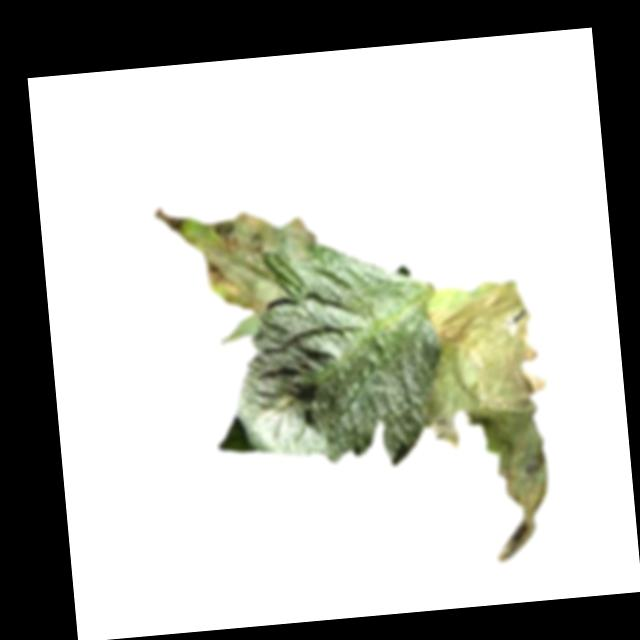Late_blight: (410, 277, 560, 571), (154, 185, 323, 322)
healthy: (199, 233, 451, 482)
